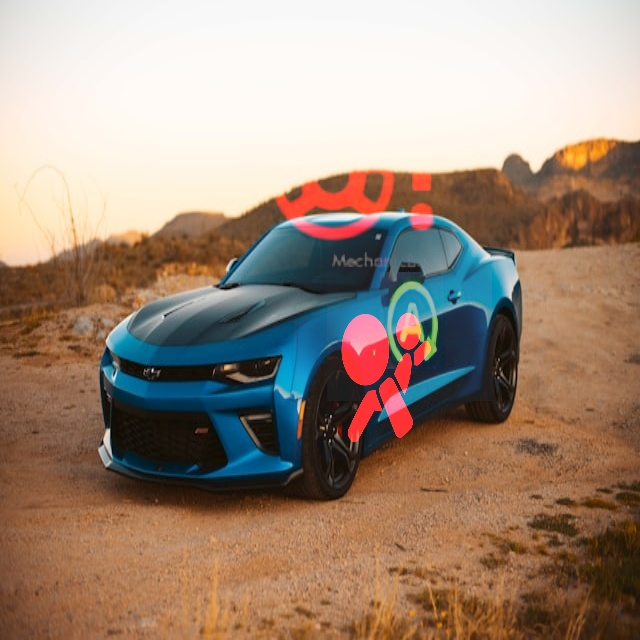symbol: (255, 81, 451, 277), (294, 287, 467, 460), (327, 236, 492, 401)
